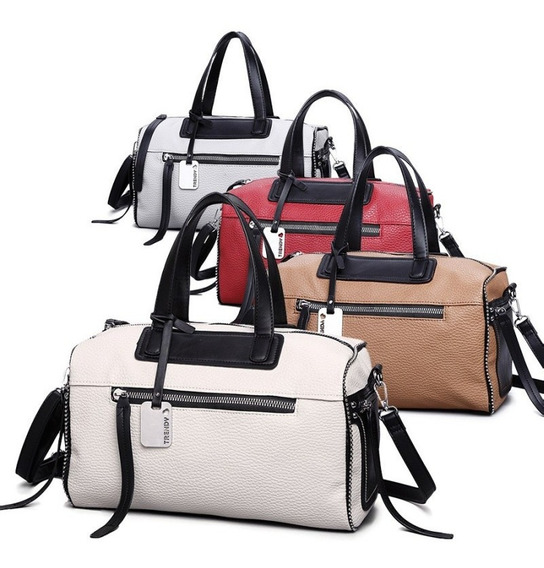cartera: (60, 189, 383, 534), (277, 147, 512, 418), (213, 88, 437, 309), (104, 31, 334, 233)
